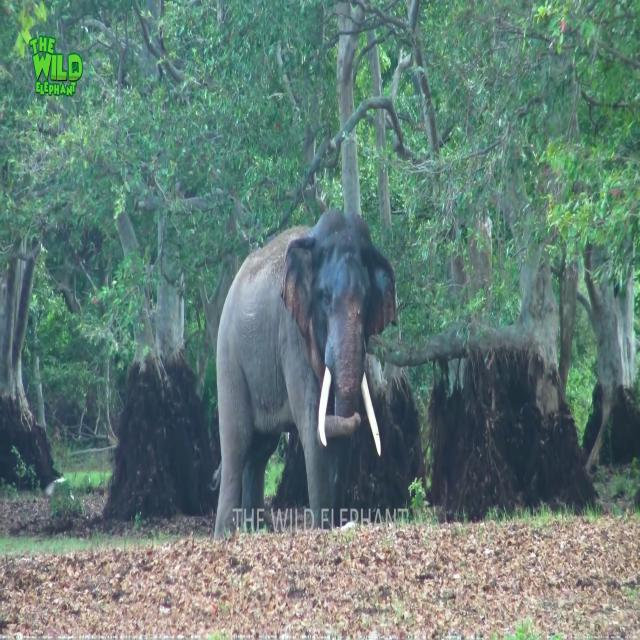Elephant: (211, 207, 398, 539)
